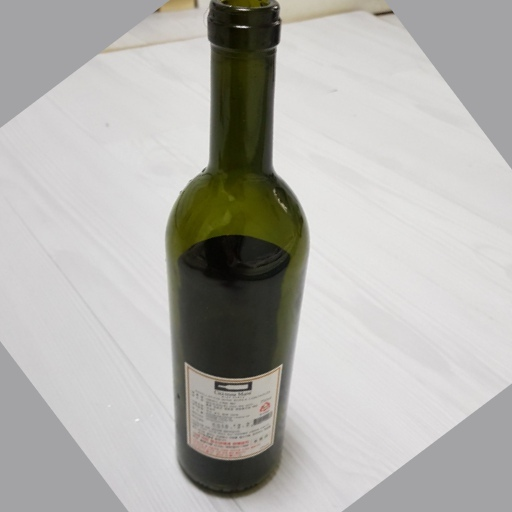Glass_2: (161, 2, 313, 500)
